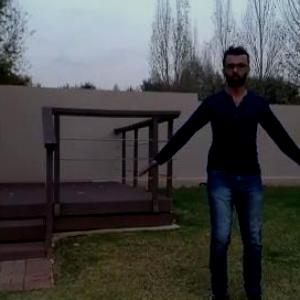land: (134, 45, 300, 299)
